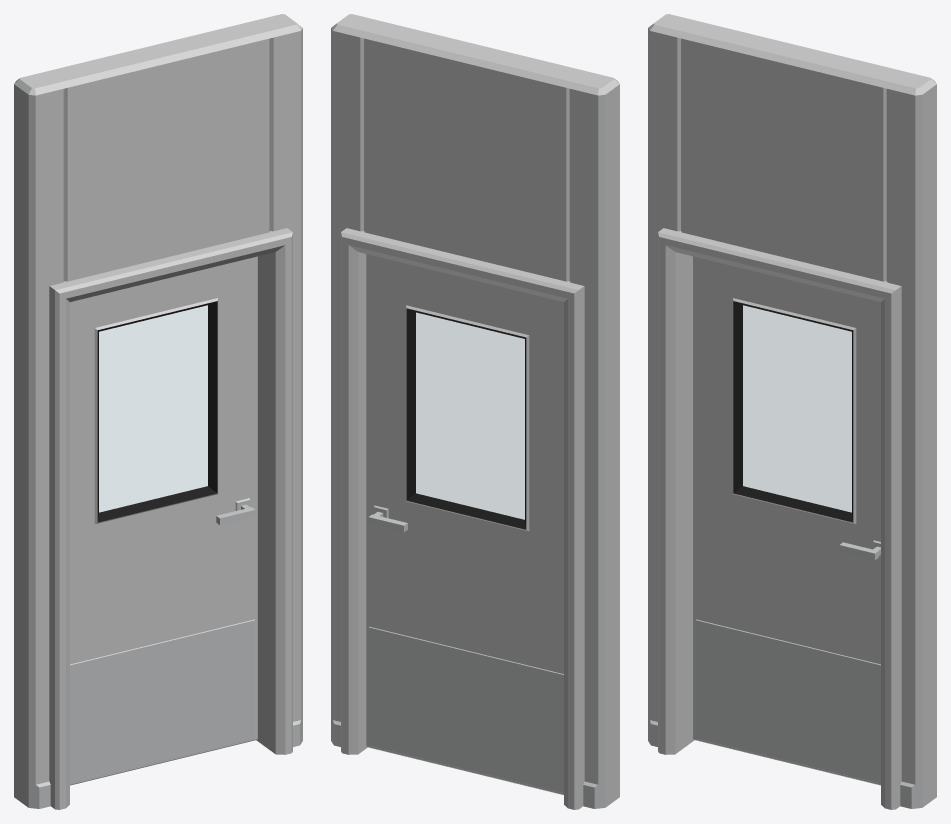
The model's file is door.glb.
3 views of the same model, side by side, from view 1: azimuth 30°, elevation 25°; view 2: azimuth 150°, elevation 25°; view 3: azimuth 330°, elevation 25° (orthographic).
Parts seen in each view (by area): view 1: shell, leaf, leaf-glass, joint-faces; view 2: shell, leaf, leaf-glass, joint-faces; view 3: shell, leaf, leaf-glass, joint-faces.
Part boxes in pixels (x1=…): shell: x1=14, y1=14, x2=302, y2=809; leaf: x1=70, y1=256, x2=257, y2=785; leaf-glass: x1=99, y1=305, x2=207, y2=512; joint-faces: x1=14, y1=84, x2=28, y2=807; shell: x1=331, y1=14, x2=619, y2=809; leaf: x1=366, y1=254, x2=563, y2=794; leaf-glass: x1=416, y1=313, x2=524, y2=519; joint-faces: x1=605, y1=84, x2=619, y2=807; shell: x1=648, y1=14, x2=936, y2=809; leaf: x1=693, y1=256, x2=880, y2=785; leaf-glass: x1=743, y1=305, x2=851, y2=512; joint-faces: x1=922, y1=84, x2=936, y2=807.
Bounding box in the file's own units: 1.2 × 3 × 0.26.
